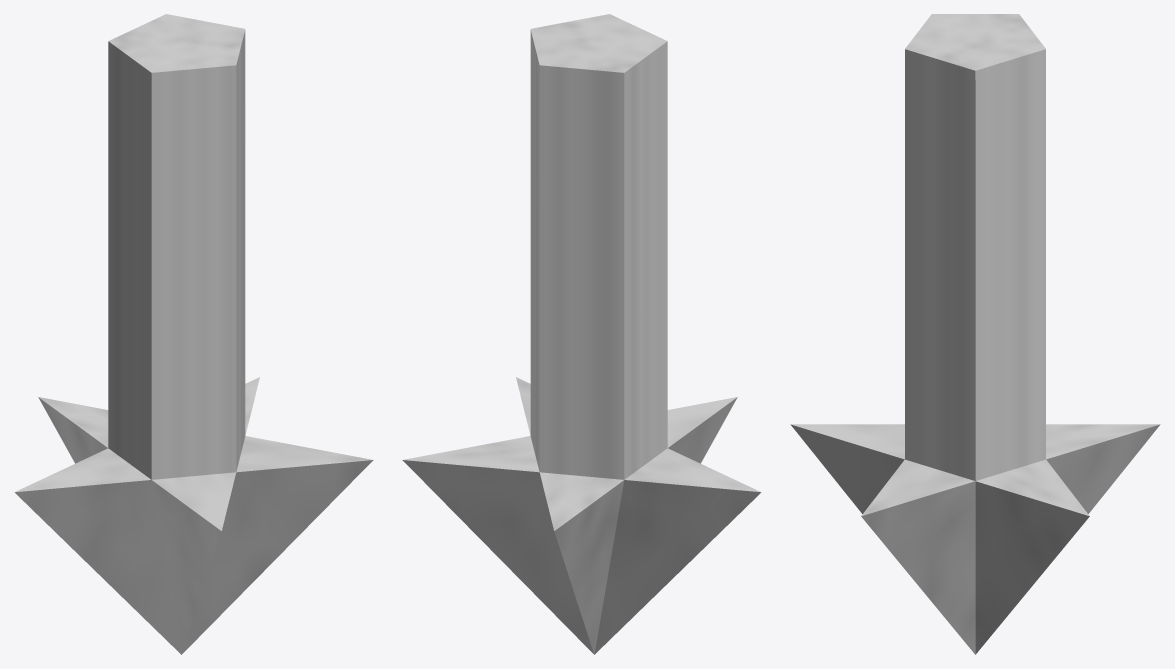
The picture shows the model from 3 angles, left to right: view 1: azimuth 30°, elevation 25°; view 2: azimuth 150°, elevation 25°; view 3: azimuth 270°, elevation 25°; orthographic projection.
Parts seen in each view (by area): view 1: 3DIcon_Default; view 2: 3DIcon_Default; view 3: 3DIcon_Default.
Boxes of the visible parts, box(x1,y1,x2,y2) form: 3DIcon_Default: box(14, 14, 373, 654); 3DIcon_Default: box(402, 14, 761, 654); 3DIcon_Default: box(790, 14, 1160, 654).
Size of the model in its own units: 0.7779 by 1.5 by 0.8179.
